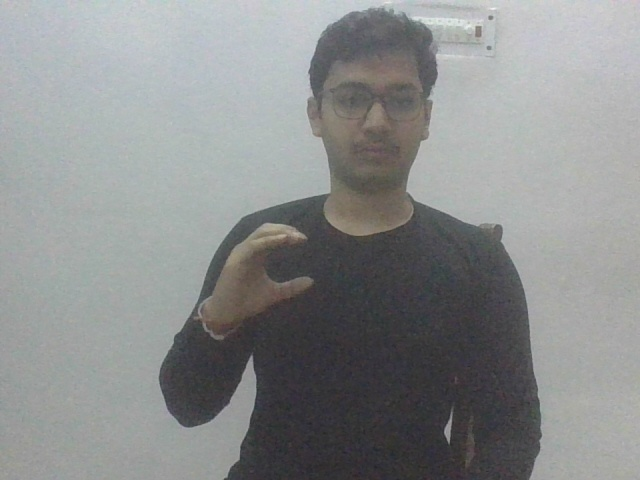C: (213, 217, 318, 333)
